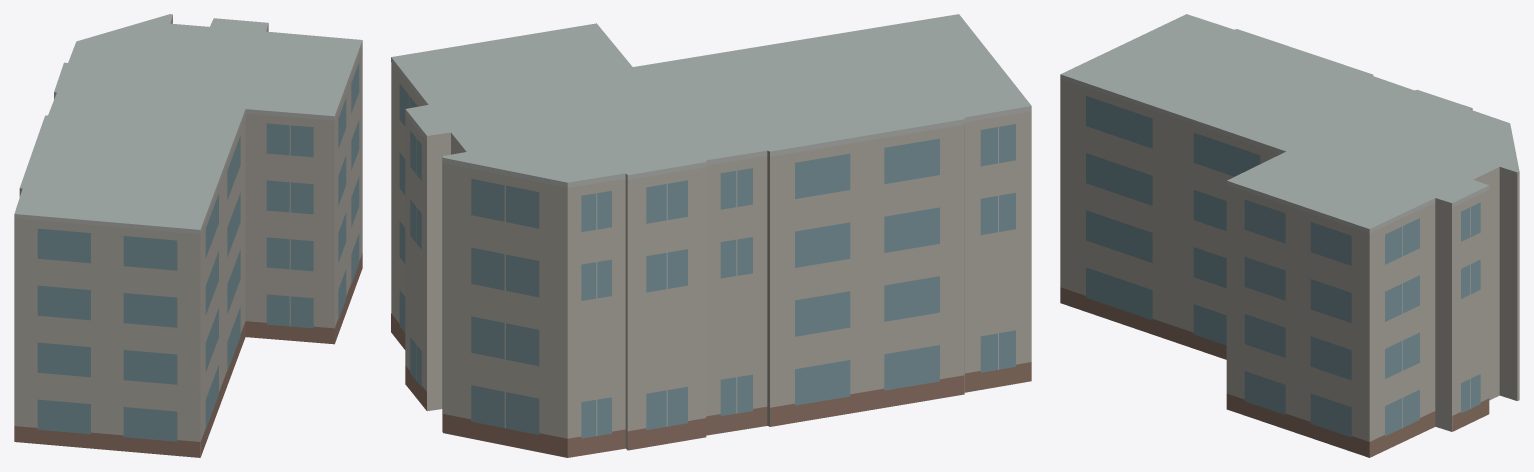
File: survey-upis-32582912.glb
The picture shows the model from 3 angles, left to right: view 1: azimuth 30°, elevation 25°; view 2: azimuth 150°, elevation 25°; view 3: azimuth 270°, elevation 25°; orthographic projection. The views are drawn at different scales.
Visible parts, largest first — view 1: survey-upis-32582912.tmp; view 2: survey-upis-32582912.tmp; view 3: survey-upis-32582912.tmp.
Boxes of the visible parts, box(x1,y1,x2,y2) form: survey-upis-32582912.tmp: box(14, 14, 362, 457); survey-upis-32582912.tmp: box(391, 14, 1031, 457); survey-upis-32582912.tmp: box(1060, 14, 1519, 457).
Bounding box in the file's own units: 25.83 × 12.8 × 23.3.
